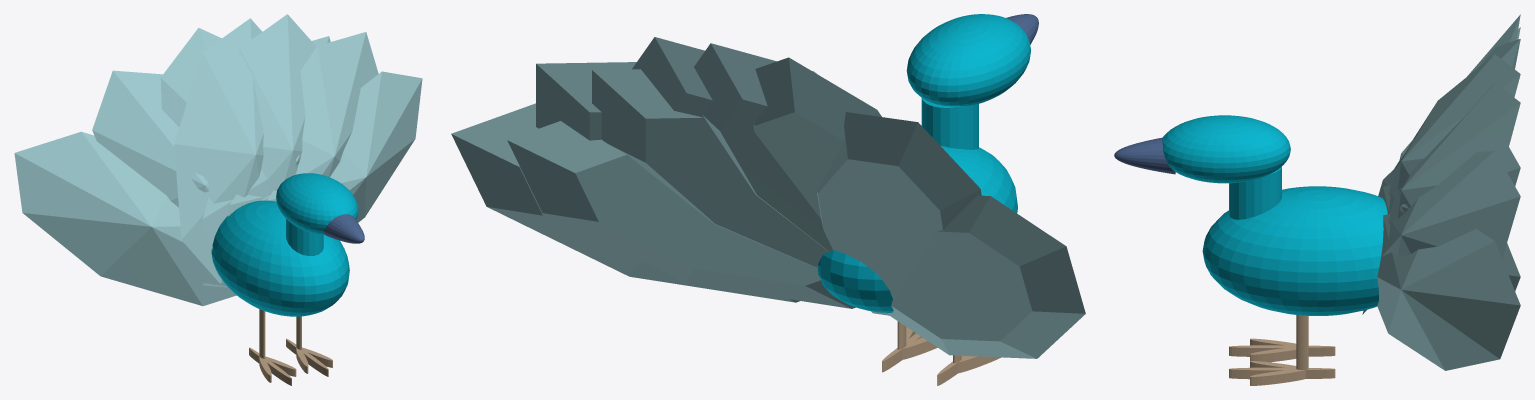
The model's file is peacock.gltf.
3 renders of one model, left to right at view 1: azimuth 30°, elevation 25°; view 2: azimuth 150°, elevation 25°; view 3: azimuth 270°, elevation 25°, orthographic. The views are drawn at different scales.
Parts seen in each view (by area): view 1: Mesh_Mesh_head_geo.001_lambert2SG.002; view 2: Mesh_Mesh_head_geo.001_lambert2SG.002; view 3: Mesh_Mesh_head_geo.001_lambert2SG.002.
Part boxes in pixels (x1,y1,x2,y2): Mesh_Mesh_head_geo.001_lambert2SG.002: (14, 14, 422, 385); Mesh_Mesh_head_geo.001_lambert2SG.002: (451, 14, 1085, 385); Mesh_Mesh_head_geo.001_lambert2SG.002: (1114, 14, 1520, 385).
Bounding box in the file's own units: 58 × 36 × 40.
